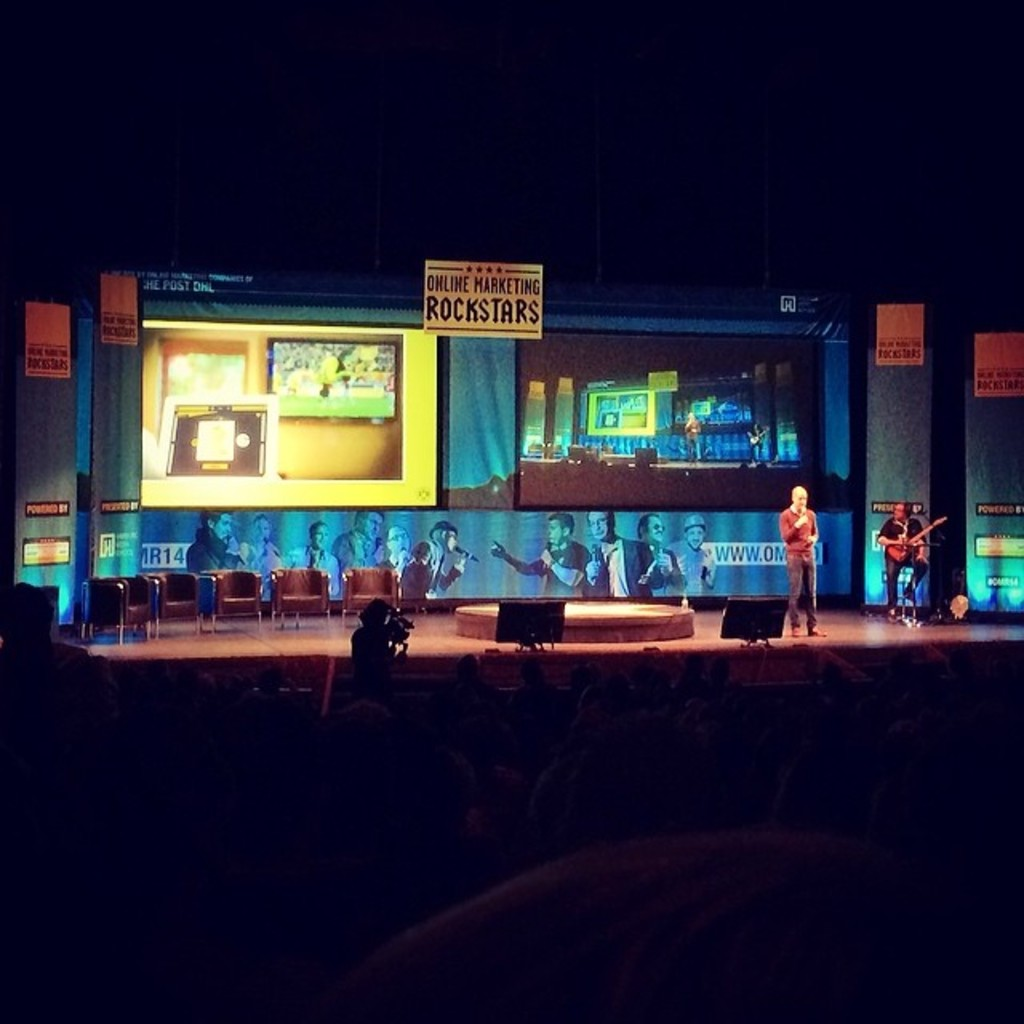Person: (177, 509, 714, 593), (779, 484, 827, 639), (874, 496, 928, 621)
